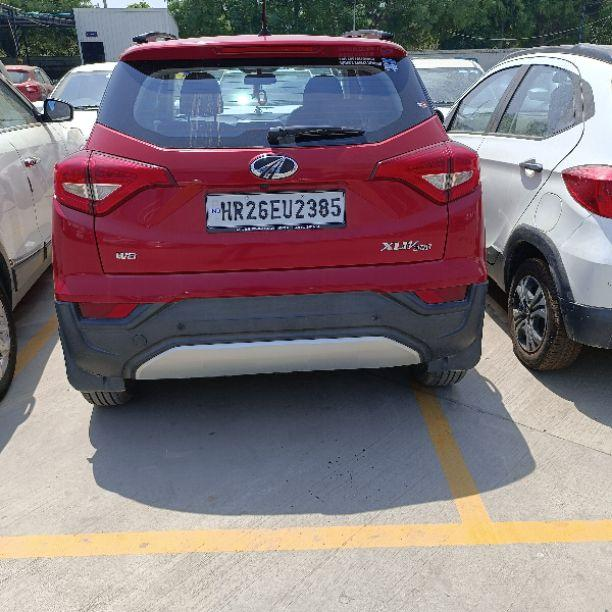license_plate: (204, 188, 346, 230)
